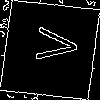V: (25, 25, 79, 64)
